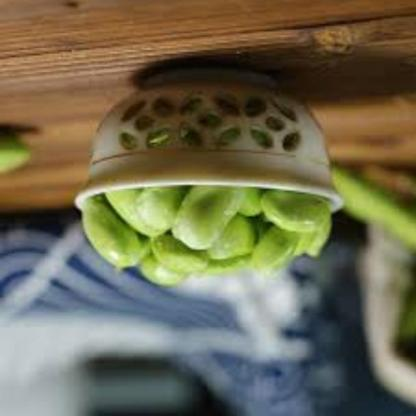beans: (74, 157, 342, 311), (324, 164, 416, 267), (0, 129, 27, 187)
